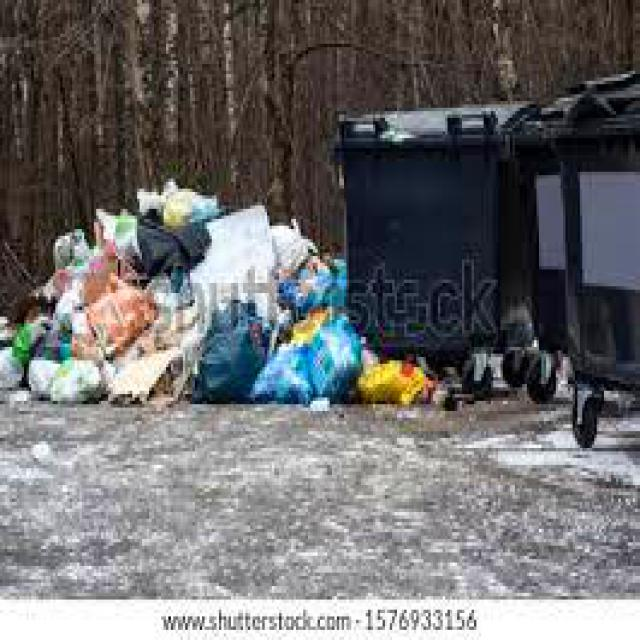garbage: (0, 286, 359, 391), (65, 219, 306, 286), (137, 185, 207, 216)
